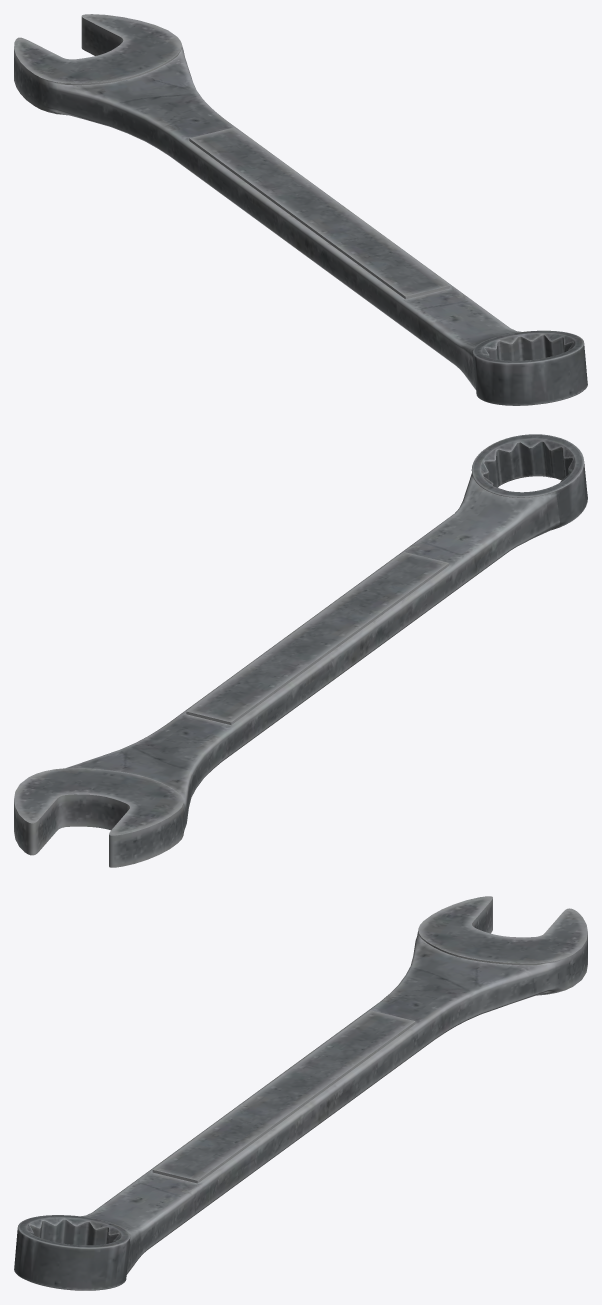
The model's file is combWrench.glb.
3 views of the same model, one above another, from view 1: azimuth 30°, elevation 25°; view 2: azimuth 150°, elevation 25°; view 3: azimuth 330°, elevation 25° (orthographic).
Visible parts, largest first — view 1: combination_wrench; view 2: combination_wrench; view 3: combination_wrench.
Part boxes in pixels (x1,y1,x2,y2): combination_wrench: [14, 14, 587, 405]; combination_wrench: [14, 434, 587, 867]; combination_wrench: [14, 896, 587, 1290].
Size of the model in its own units: 0.0566 by 0.0215 by 0.337.
Materials: 1 (1 with a texture image).
